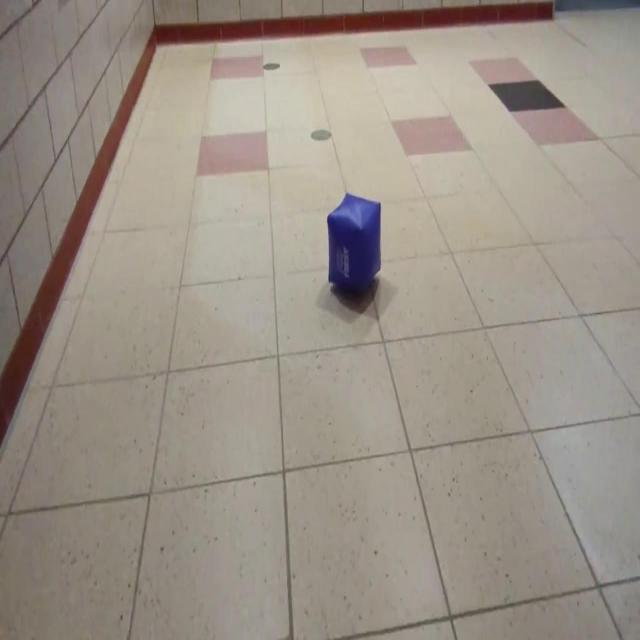frc_cube: (326, 193, 382, 299)
